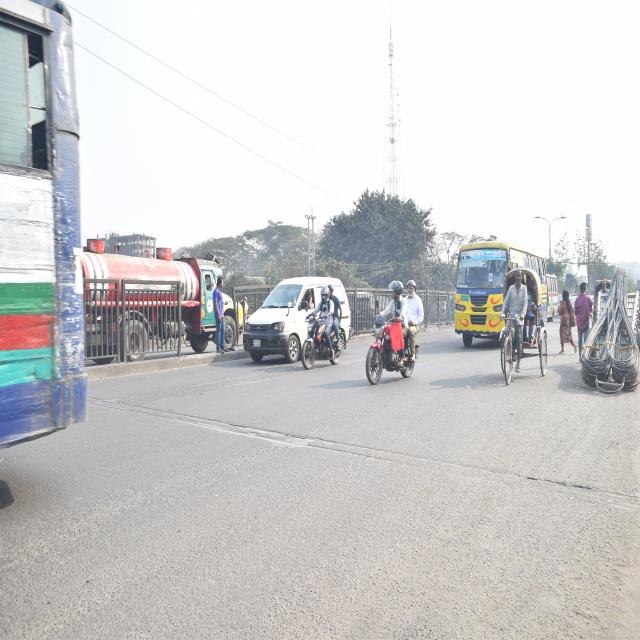bus: (0, 0, 92, 475), (455, 228, 547, 346), (546, 268, 560, 320)
car: (240, 273, 312, 368)
motorbike: (362, 289, 420, 392), (300, 300, 347, 370)
truck: (81, 242, 245, 368)
